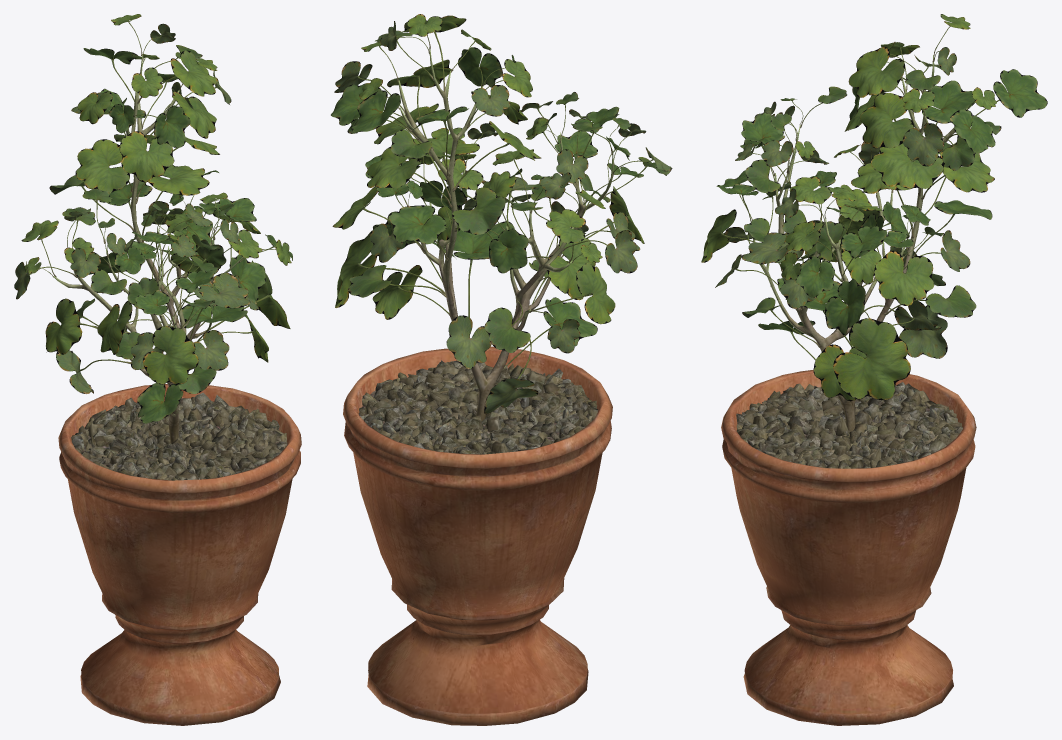
Rendered from potted-plant.glb.
The picture shows the model from 3 angles, left to right: view 1: azimuth 30°, elevation 25°; view 2: azimuth 150°, elevation 25°; view 3: azimuth 270°, elevation 25°; orthographic projection. The views are drawn at different scales.
Parts seen in each view (by area): view 1: potted_plant_01_pot, potted_plant_01_leaves, potted_plant_01_pebbles, potted_plant_01_stem; view 2: potted_plant_01_pot, potted_plant_01_leaves, potted_plant_01_pebbles, potted_plant_01_stem; view 3: potted_plant_01_pot, potted_plant_01_leaves, potted_plant_01_pebbles, potted_plant_01_stem.
Part boxes in pixels (x1=…): potted_plant_01_pot: x1=58, y1=384, x2=301, y2=725; potted_plant_01_leaves: x1=14, y1=14, x2=292, y2=423; potted_plant_01_pebbles: x1=71, y1=392, x2=287, y2=480; potted_plant_01_stem: x1=53, y1=54, x2=243, y2=443; potted_plant_01_pot: x1=343, y1=346, x2=612, y2=725; potted_plant_01_leaves: x1=331, y1=14, x2=672, y2=414; potted_plant_01_pebbles: x1=358, y1=360, x2=597, y2=454; potted_plant_01_stem: x1=398, y1=48, x2=613, y2=421; potted_plant_01_pot: x1=721, y1=369, x2=976, y2=725; potted_plant_01_leaves: x1=701, y1=14, x2=1047, y2=401; potted_plant_01_pebbles: x1=736, y1=382, x2=962, y2=468; potted_plant_01_stem: x1=752, y1=55, x2=967, y2=433.
Bounding box in the file's own units: 0.5874 × 1.34 × 0.6336.
Materials: 2 (2 with a texture image).
